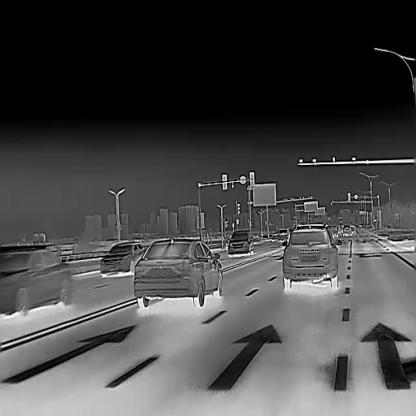car: (132, 237, 224, 307), (0, 244, 72, 315), (282, 223, 340, 288), (98, 240, 146, 275), (228, 228, 254, 254), (328, 225, 338, 240), (277, 228, 289, 240), (342, 226, 352, 237), (349, 224, 356, 234), (272, 231, 278, 238)
